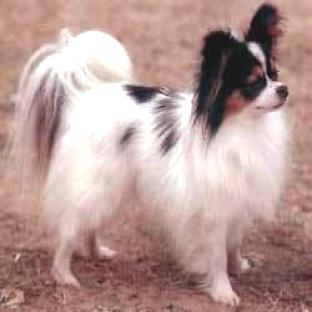Animal: (11, 3, 290, 305)
